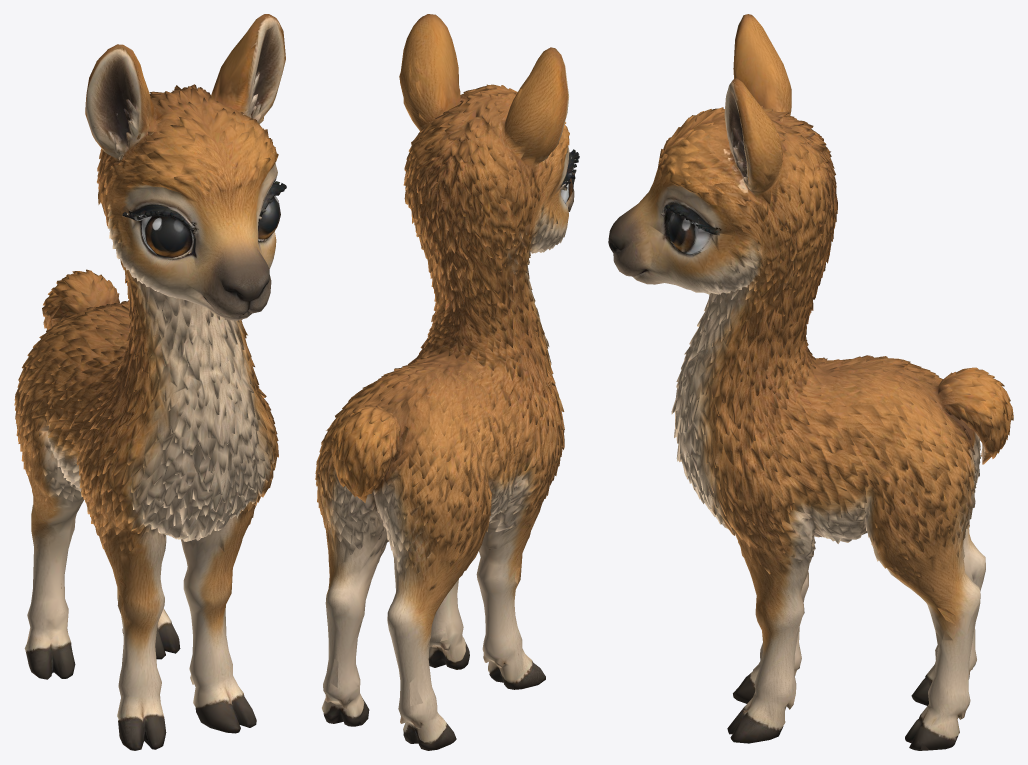
File: guanaco.glb
3 renders of one model, left to right at view 1: azimuth 30°, elevation 25°; view 2: azimuth 150°, elevation 25°; view 3: azimuth 270°, elevation 25°, orthographic. The views are drawn at different scales.
Parts seen in each view (by area): view 1: guanaco; view 2: guanaco; view 3: guanaco.
Boxes of the visible parts, x1=… form: guanaco: x1=14, y1=14, x2=286, y2=750; guanaco: x1=315, y1=14, x2=579, y2=750; guanaco: x1=608, y1=14, x2=1013, y2=750.
Bounding box in the file's own units: 0.4602 × 1.6 × 0.878.
Materials: 1 (1 with a texture image).
